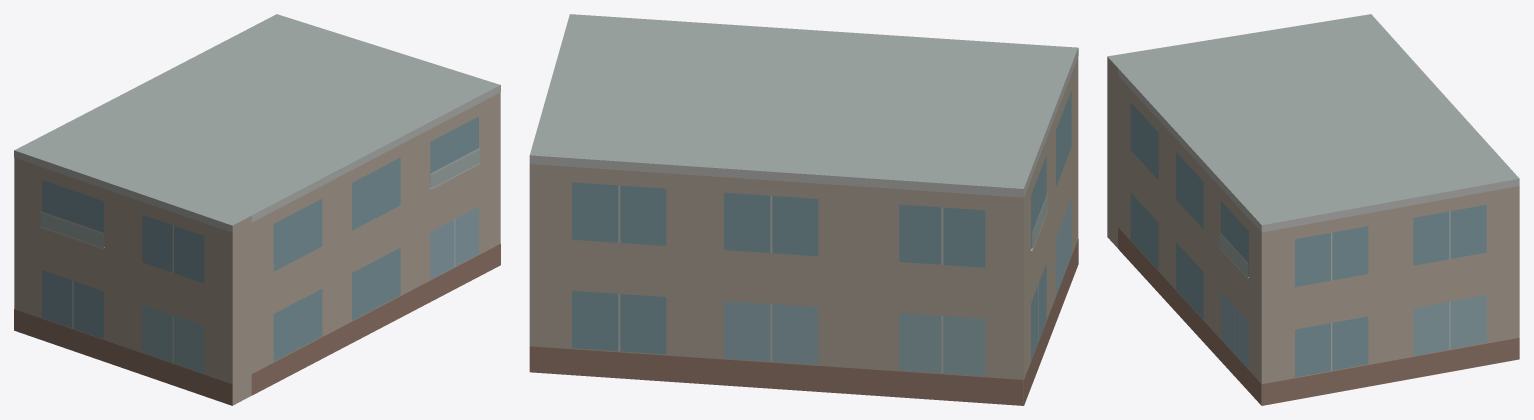
Rendered from survey-upis-32835900.glb.
3 views of the same model, side by side, from view 1: azimuth 30°, elevation 25°; view 2: azimuth 150°, elevation 25°; view 3: azimuth 270°, elevation 25° (orthographic). The views are drawn at different scales.
Visible parts, largest first — view 1: survey-upis-32835900.tmp; view 2: survey-upis-32835900.tmp; view 3: survey-upis-32835900.tmp.
Part boxes in pixels (x1,y1,x2,y2): survey-upis-32835900.tmp: (14, 14, 500, 405); survey-upis-32835900.tmp: (529, 14, 1078, 405); survey-upis-32835900.tmp: (1107, 14, 1519, 405).
Size of the model in its own units: 15.31 by 6.1 by 12.63.
